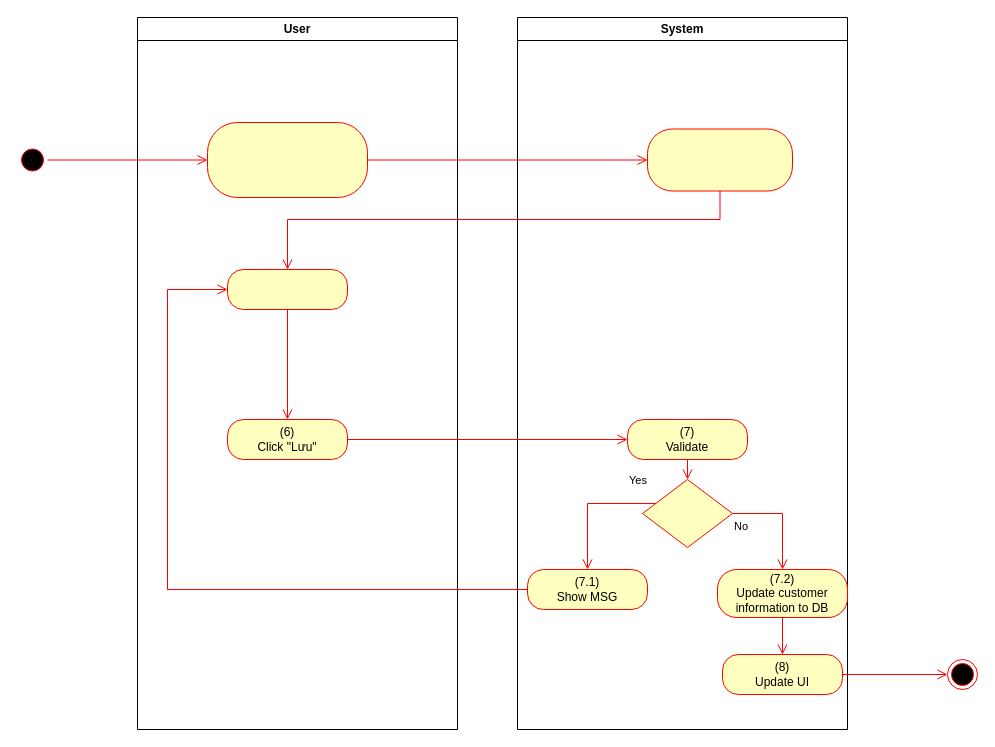
Some shapes in this 995 by 747 pixel diagram are drawn without their labels. Here are the shapes that lost their labels. From the top down, the box of each, then its label:
(206, 122, 368, 198): (1) On "left menu" click " Customer Information "
(646, 128, 792, 191): (2) Load " CRUD customer infomation " Screen
(226, 268, 348, 310): (5) Giving input
